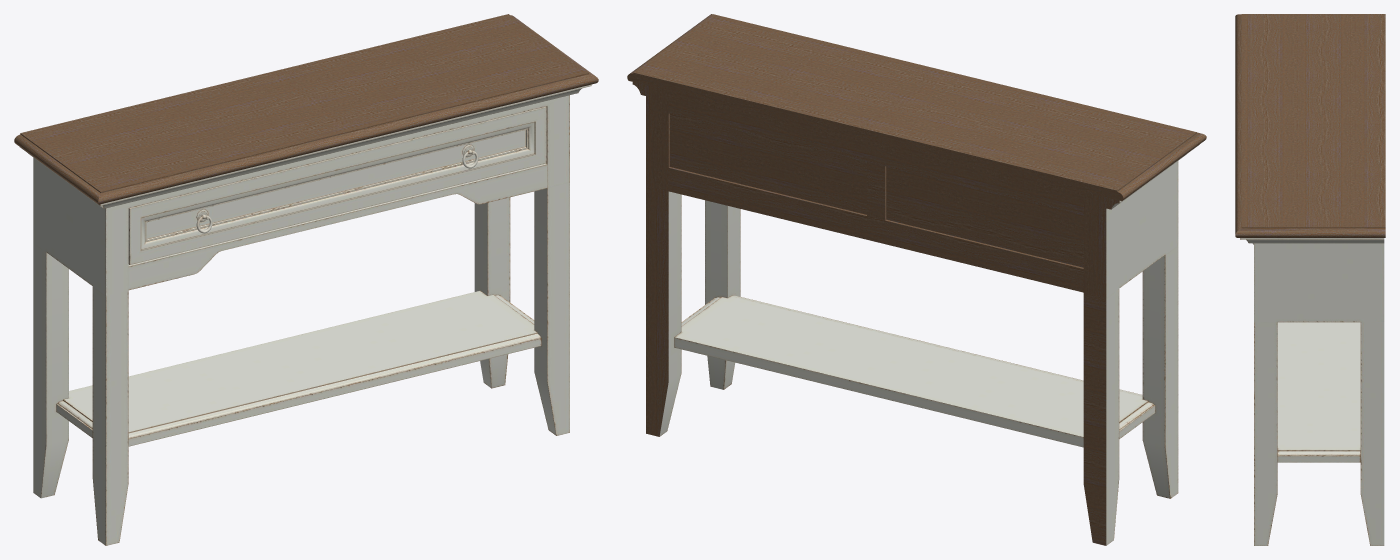
The model's file is example164.gltf.
The picture shows the model from 3 angles, left to right: view 1: azimuth 30°, elevation 25°; view 2: azimuth 150°, elevation 25°; view 3: azimuth 270°, elevation 25°; orthographic projection. The views are drawn at different scales.
Bounding box in the file's own units: 110 × 76 × 31.99.
Materials: 3 (2 with a texture image).
